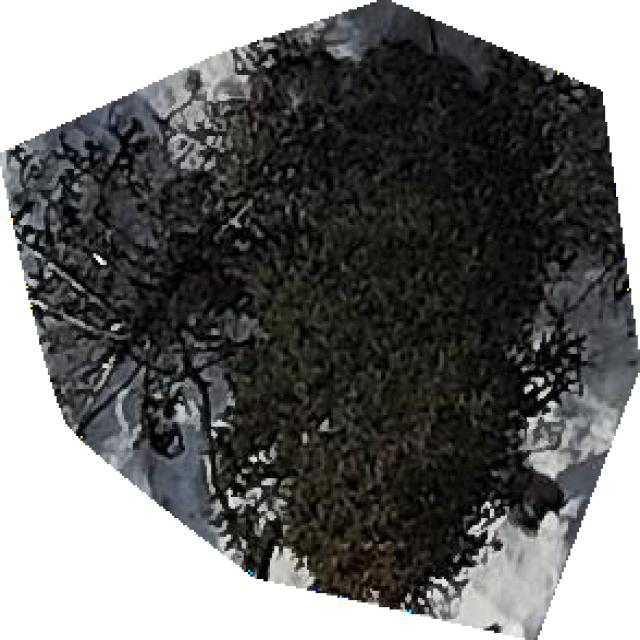pine: (4, 0, 638, 638)
